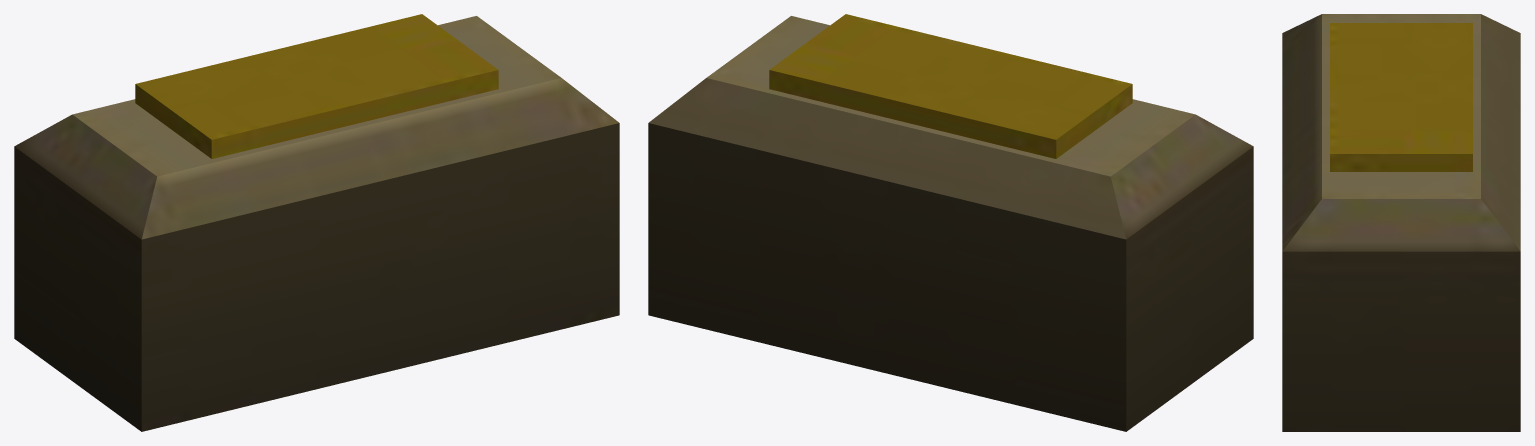
File: gate.glb
3 views of the same model, side by side, from view 1: azimuth 30°, elevation 25°; view 2: azimuth 150°, elevation 25°; view 3: azimuth 270°, elevation 25° (orthographic). The views are drawn at different scales.
Parts seen in each view (by area): view 1: gate; view 2: gate; view 3: gate.
Boxes of the visible parts, x1,y1,x2,y2 form: gate: (14,14,619,431); gate: (648,14,1253,431); gate: (1282,14,1520,431).
Size of the model in its own units: 0.26 by 0.13 by 0.12.
1 material, 1 textured.
